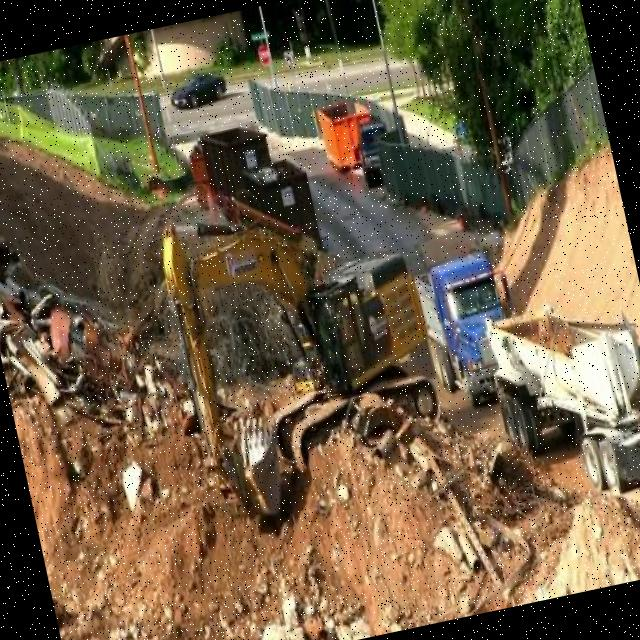Dump Truck: (478, 279, 640, 555), (410, 242, 533, 416)
Excavator: (151, 167, 458, 528)
